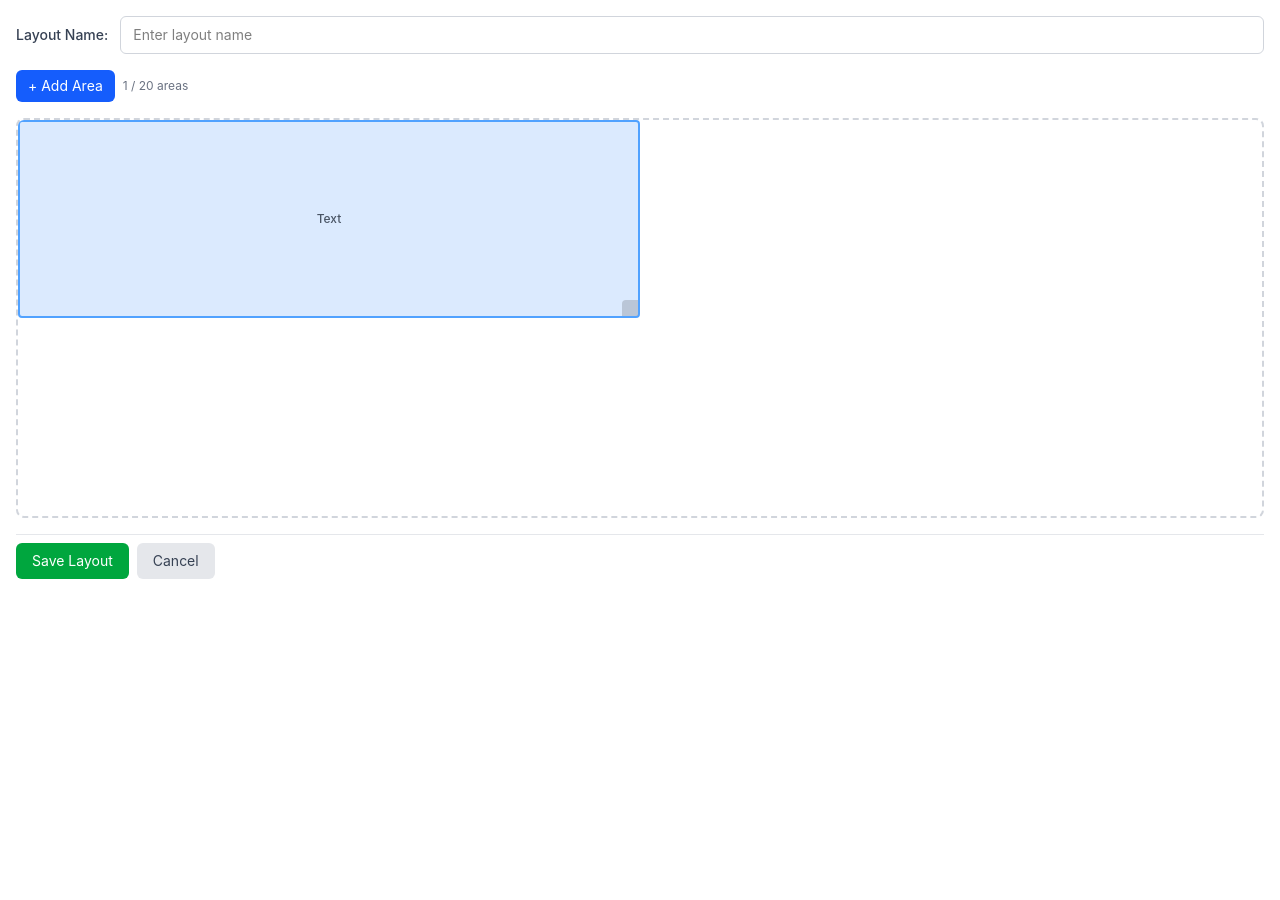
Test case: LayoutEditor › Content Area Management › allows changing content area type
The image size is (1280, 900).
# Select the default area
Click the button with aria-label "content area".
click(65, 86)  # box [16, 70, 115, 102]
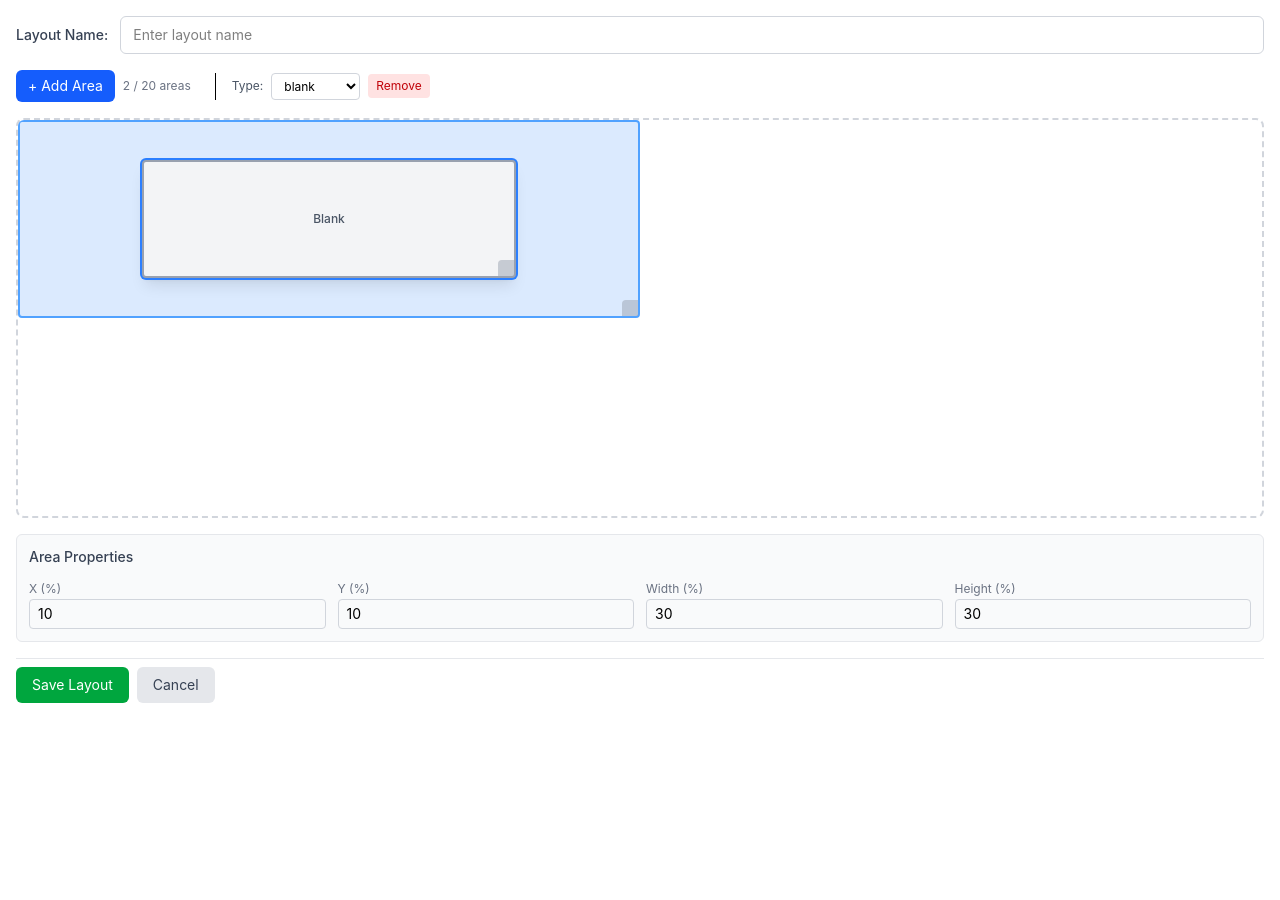
# Change type
Select "checklist" in the dropdown named "Content area type" at coordinates (316, 86), box [271, 72, 360, 100]
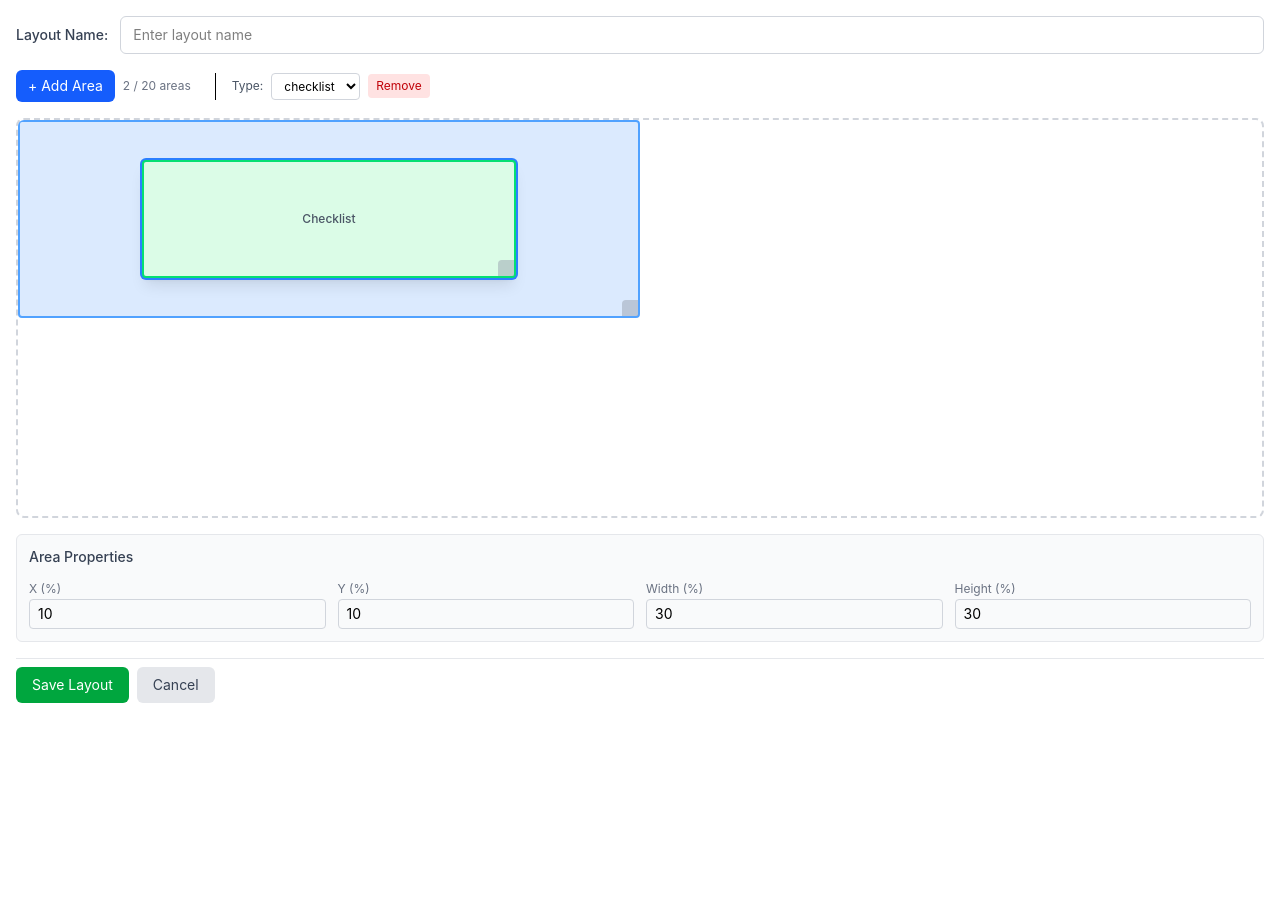
Check: the text "Checklist" is shown, box [302, 211, 356, 227]
